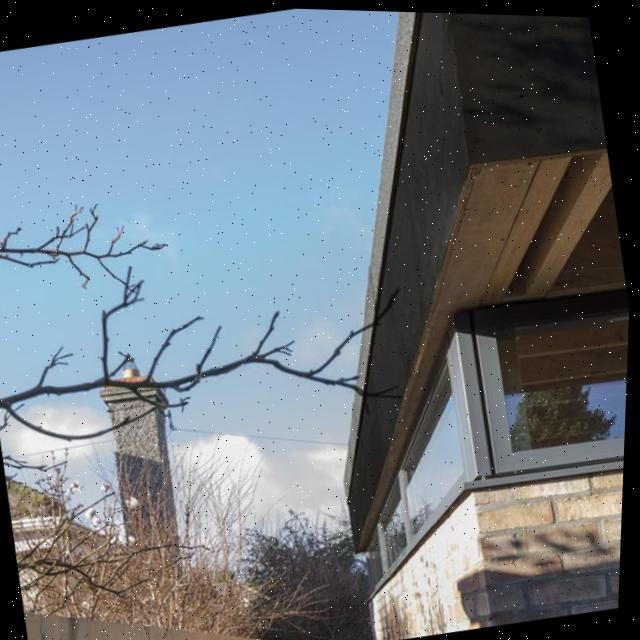building: (250, 8, 640, 640), (87, 345, 200, 581)
